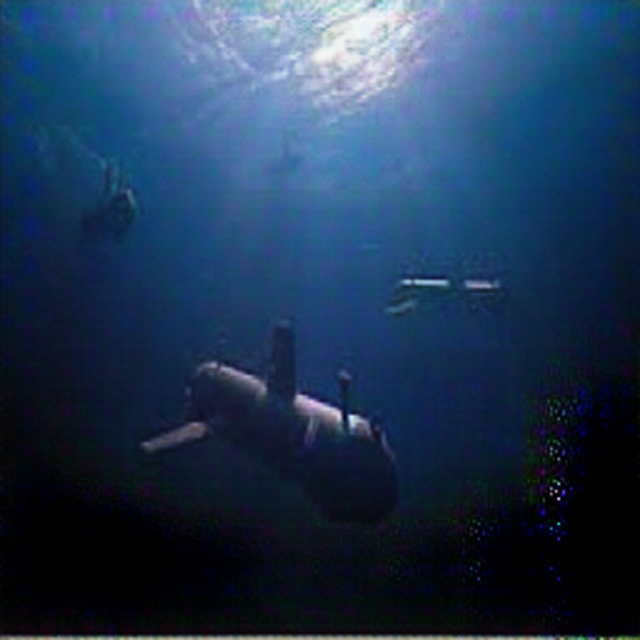submarine: (140, 314, 404, 551), (384, 262, 520, 359), (77, 154, 148, 245), (267, 130, 312, 192)
